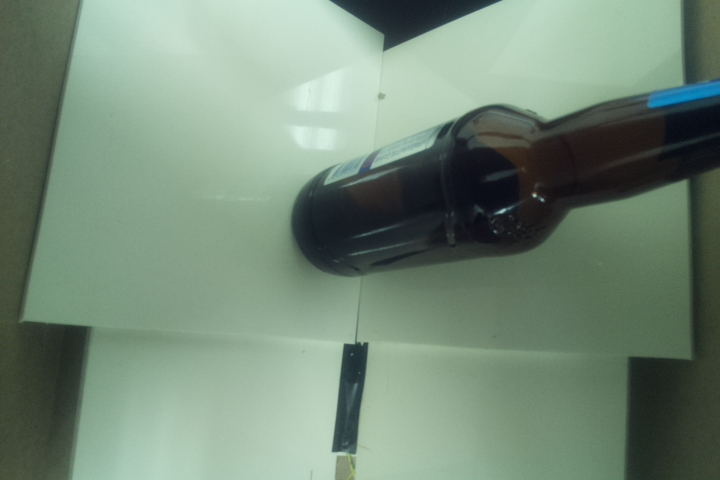makju: (287, 75, 720, 279)
